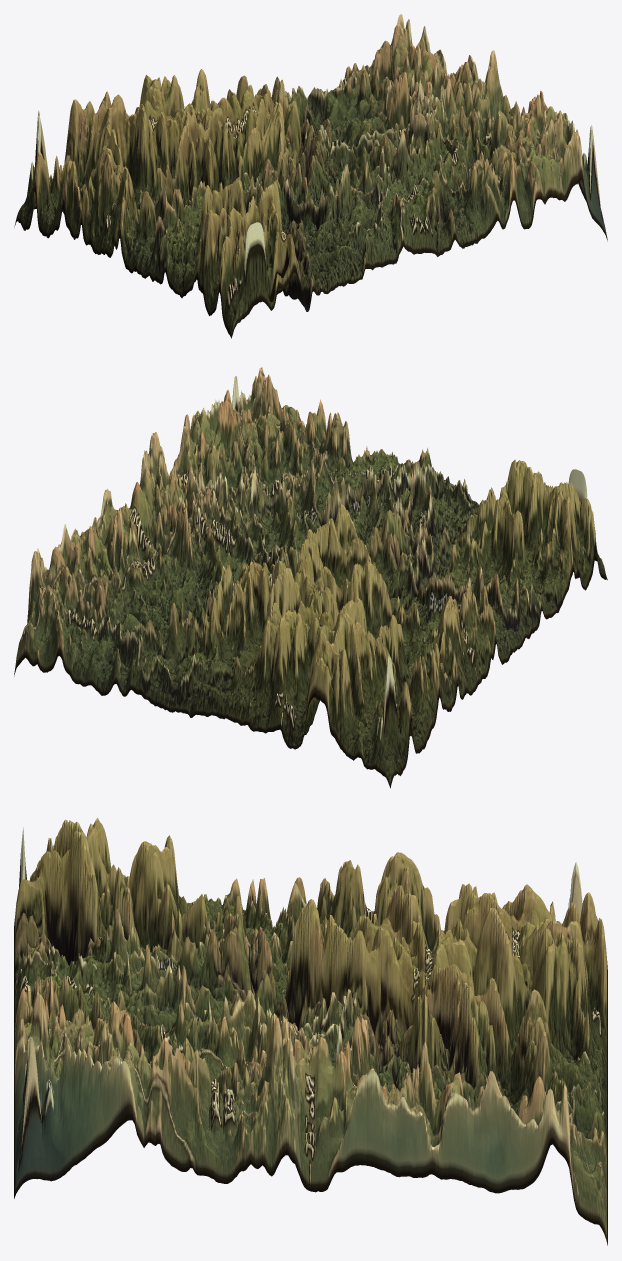
The model's file is terrain-lod2.glb.
3 renders of one model, top to bottom at view 1: azimuth 30°, elevation 25°; view 2: azimuth 150°, elevation 25°; view 3: azimuth 270°, elevation 25°, orthographic. The views are drawn at different scales.
Parts seen in each view (by area): view 1: geometry_0; view 2: geometry_0; view 3: geometry_0.
Part boxes in pixels (x1,y1,x2,y2): geometry_0: (14,14,607,338); geometry_0: (14,367,607,788); geometry_0: (14,817,607,1245).
Bounding box in the file's own units: 1534 × 727 × 1534.
Materials: 1 (1 with a texture image).
